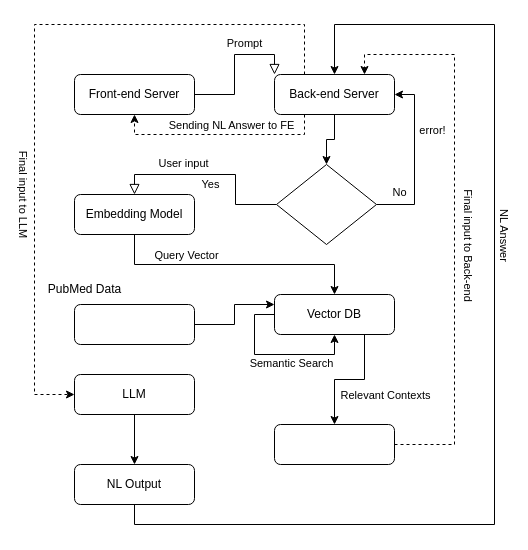
This 528x550 diagram has some shape labels left out. The shapes that lost their labels are listed below. From the top down, each one's centre as x and y in pixels, then its label:
the point at 326,204: Prompt accepted?
the point at 134,324: Acquisitioned Data
the point at 334,444: Retrieval Augmented Query
